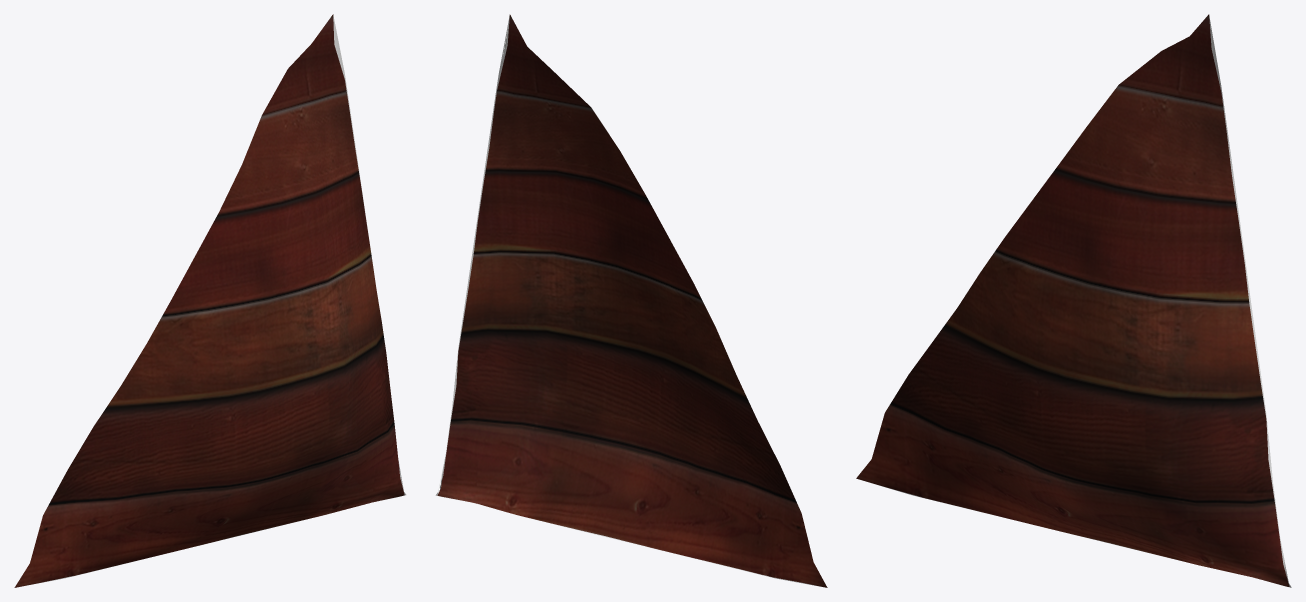
File: sail.obj
3 views of the same model, side by side, from view 1: azimuth 30°, elevation 25°; view 2: azimuth 150°, elevation 25°; view 3: azimuth 330°, elevation 25° (orthographic). The views are drawn at different scales.
Visible parts, largest first — view 1: Plane_Plane.001; view 2: Plane_Plane.001; view 3: Plane_Plane.001.
Boxes of the visible parts, box(x1,y1,x2,y2) form: Plane_Plane.001: box(14, 14, 406, 587); Plane_Plane.001: box(435, 14, 827, 587); Plane_Plane.001: box(856, 14, 1291, 587).
Bounding box in the file's own units: 1.85 × 2.25 × 0.2528.
Materials: 2 (1 with a texture image).
